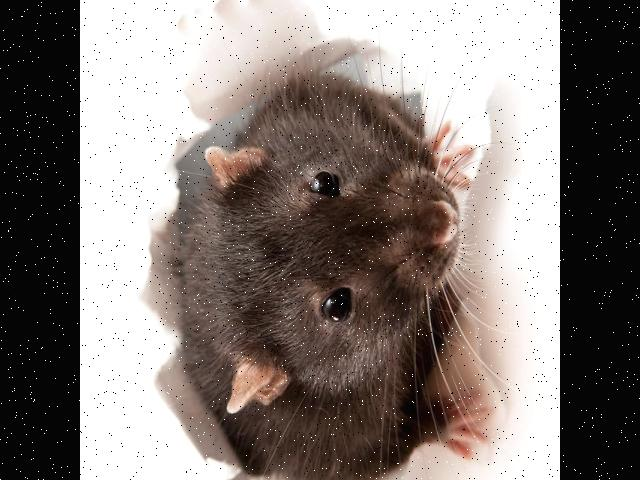Tikus: (180, 86, 470, 480)
